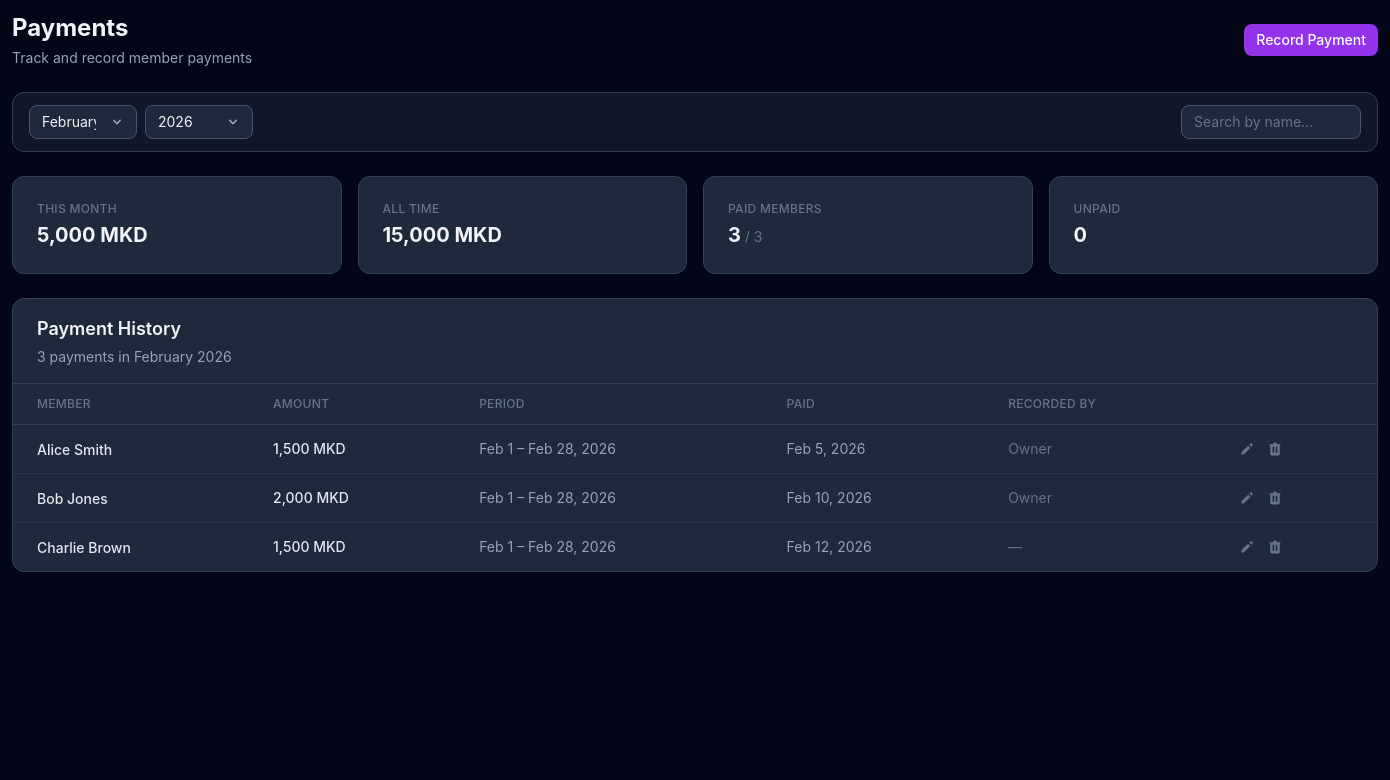
Test case: PaymentsClient › Clear Filters › shows Clear button when search has text
Expected: the text "Clear" is not shown
In the field named "Search payments by member name": (1271, 122) [1181, 105, 1361, 139], type "alice"
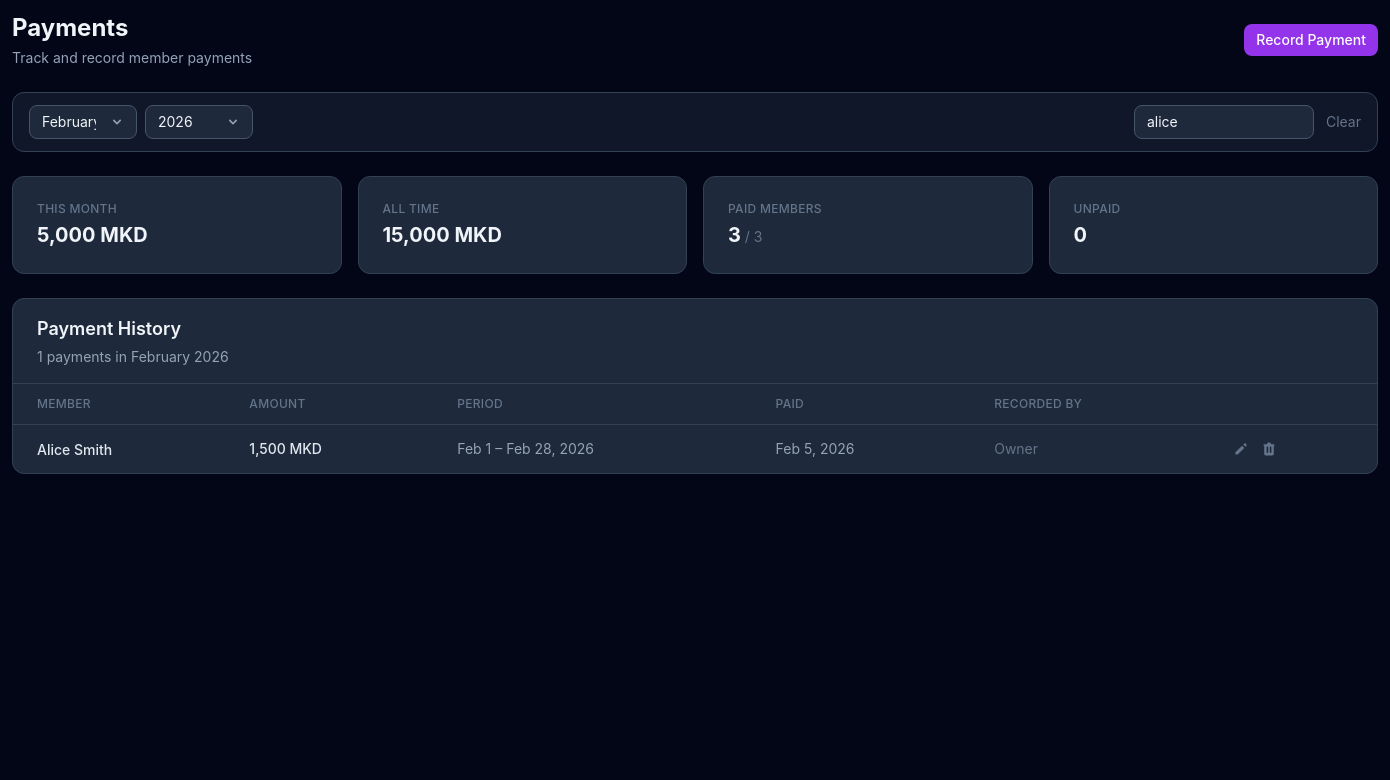
Now the button "Clear" is shown, box [1326, 112, 1361, 132]
